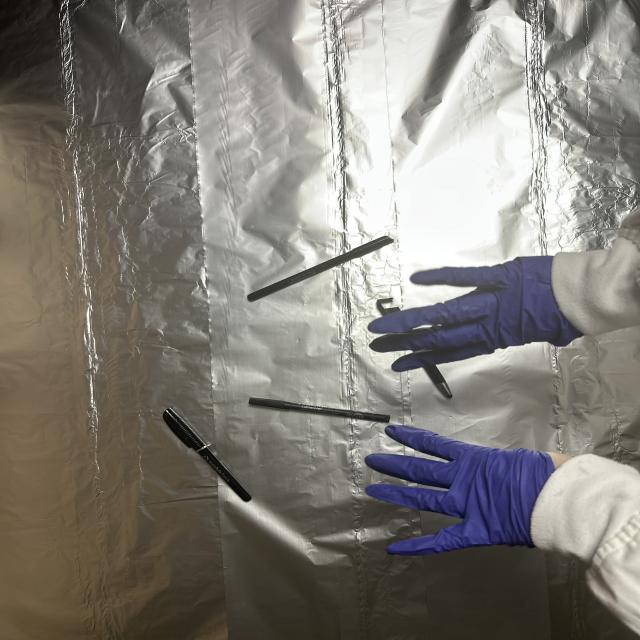glove_partial: (363, 420, 597, 559), (362, 256, 591, 372)
